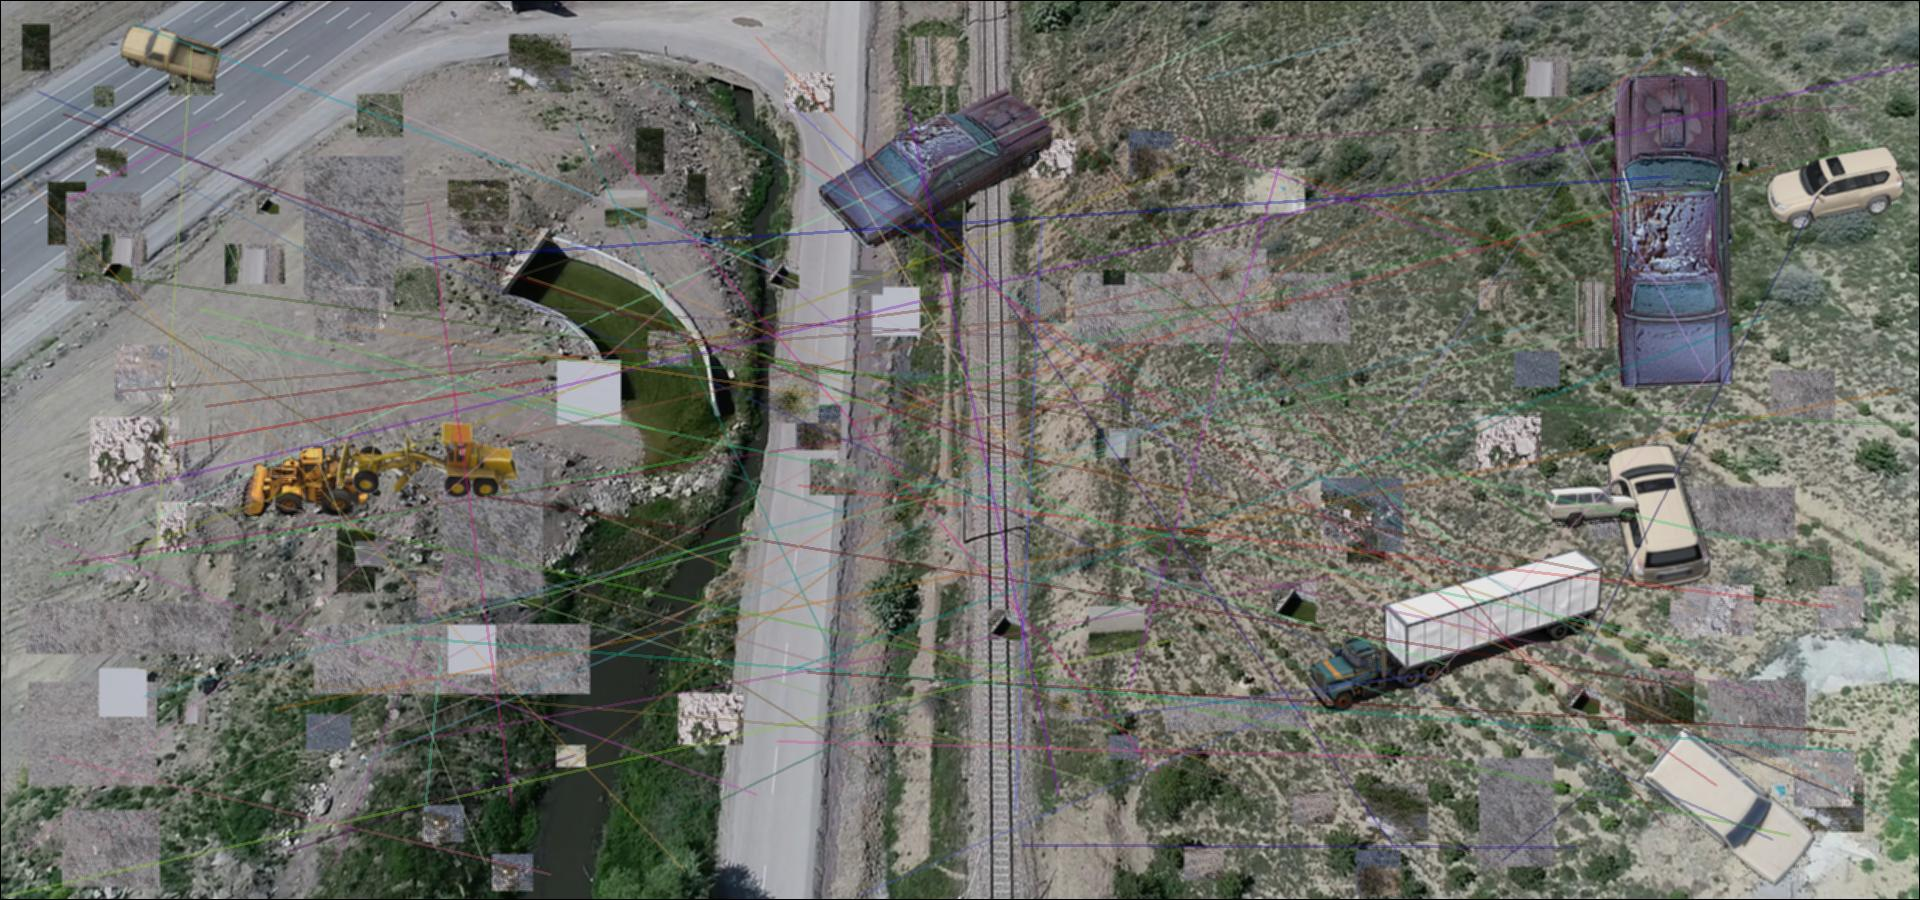arac: (1304, 544, 1618, 711), (1597, 70, 1745, 396), (813, 86, 1052, 247), (1638, 722, 1815, 887), (1598, 444, 1714, 590), (336, 418, 519, 504), (1761, 146, 1907, 230), (236, 443, 376, 520), (120, 23, 220, 87), (1547, 485, 1640, 528)
